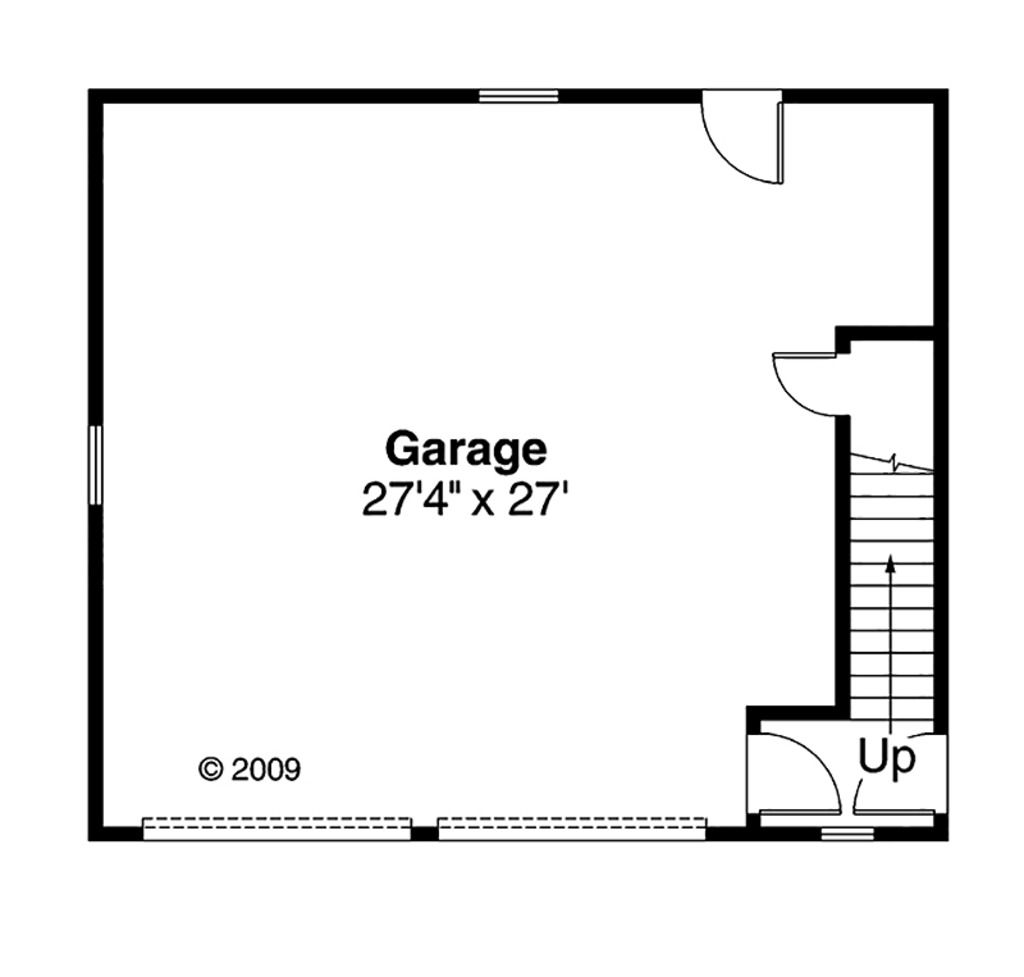door: (702, 73, 794, 190), (745, 722, 848, 819), (850, 739, 959, 821), (759, 342, 835, 418)
stairs: (826, 431, 959, 731)
window: (79, 418, 117, 515), (473, 78, 560, 112), (817, 821, 884, 852)
